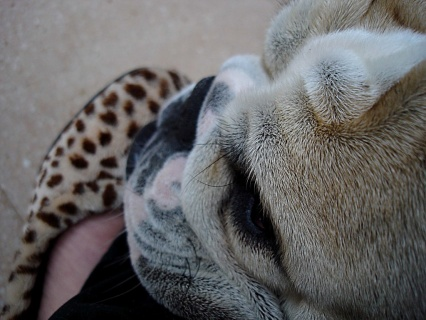Cat: (121, 0, 426, 319), (0, 65, 193, 319)
